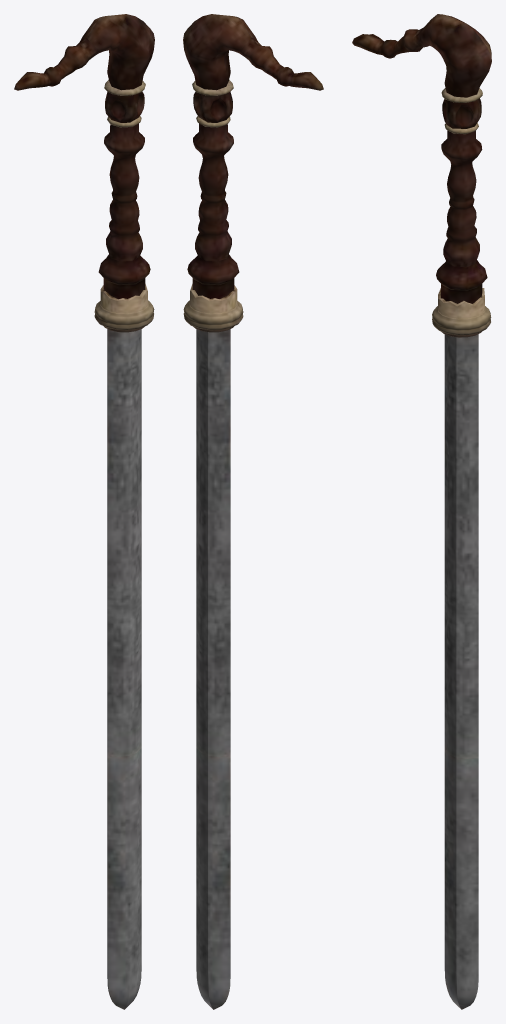
The model's file is weapon-wp_a_0228.glb.
3 renders of one model, left to right at view 1: azimuth 30°, elevation 25°; view 2: azimuth 150°, elevation 25°; view 3: azimuth 330°, elevation 25°, orthographic.
Parts seen in each view (by area): view 1: wp_a_0228_mesh; view 2: wp_a_0228_mesh; view 3: wp_a_0228_mesh.
Part boxes in pixels (bbox=[...]): wp_a_0228_mesh: bbox=[14, 14, 154, 1009]; wp_a_0228_mesh: bbox=[183, 14, 323, 1009]; wp_a_0228_mesh: bbox=[352, 14, 491, 1009].
Size of the model in its own units: 0.1549 by 1.05 by 0.0573.
1 material, 1 textured.
